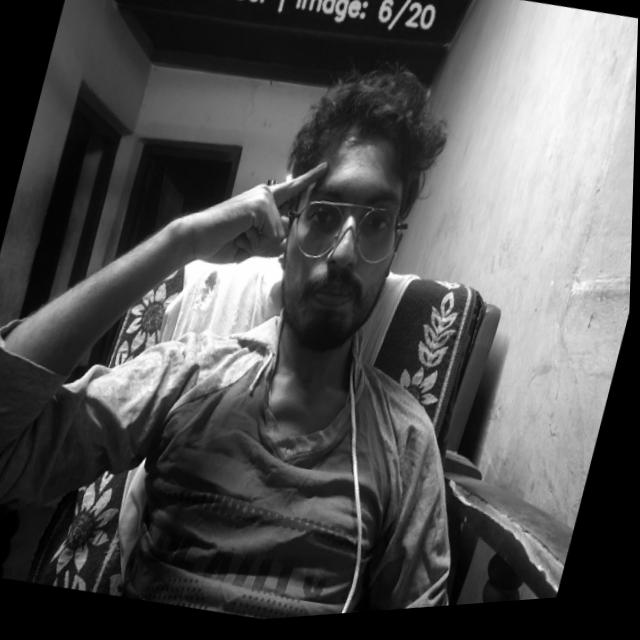Remember: (192, 137, 335, 288)
